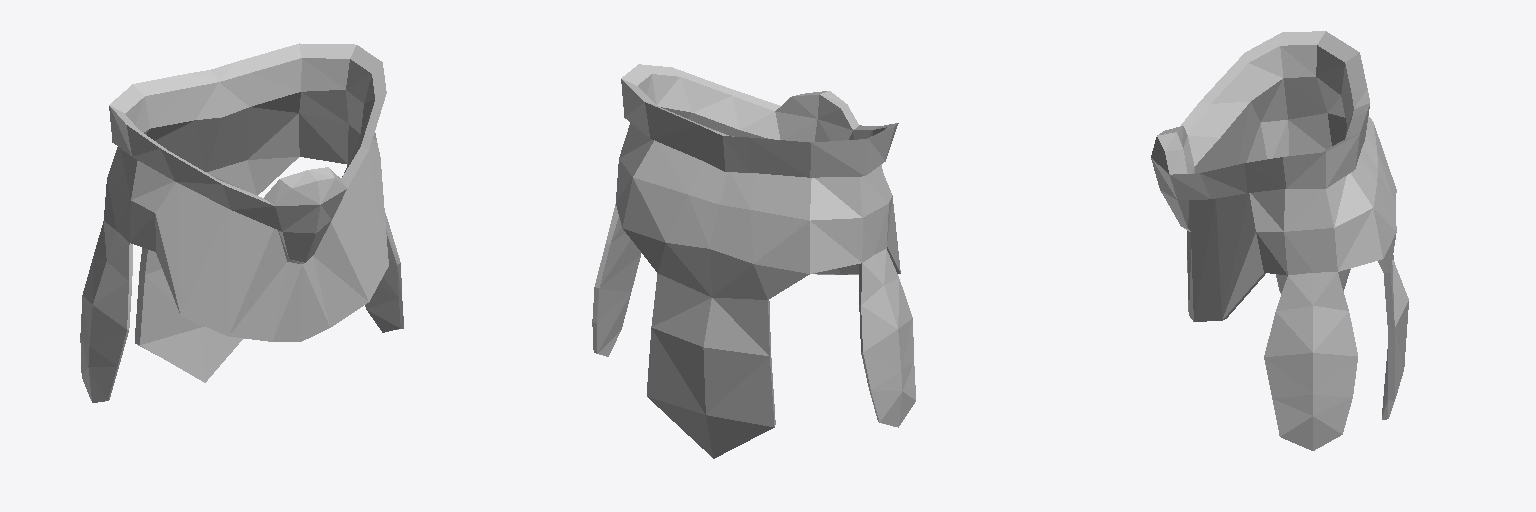
Rendered from Armor_Body_Lower.obj.
The picture shows the model from 3 angles: view 1: azimuth 30°, elevation 25°; view 2: azimuth 150°, elevation 25°; view 3: azimuth 270°, elevation 25°; orthographic projection.
Visible parts, largest first — view 1: Armor_Body_Lower_Cube.005; view 2: Armor_Body_Lower_Cube.005; view 3: Armor_Body_Lower_Cube.005.
Boxes of the visible parts, x1,y1,x2,y2 form: Armor_Body_Lower_Cube.005: [80, 43, 403, 402]; Armor_Body_Lower_Cube.005: [592, 64, 915, 458]; Armor_Body_Lower_Cube.005: [1151, 31, 1408, 450].
Bounding box in the file's own units: 9.76 × 10.14 × 7.23.